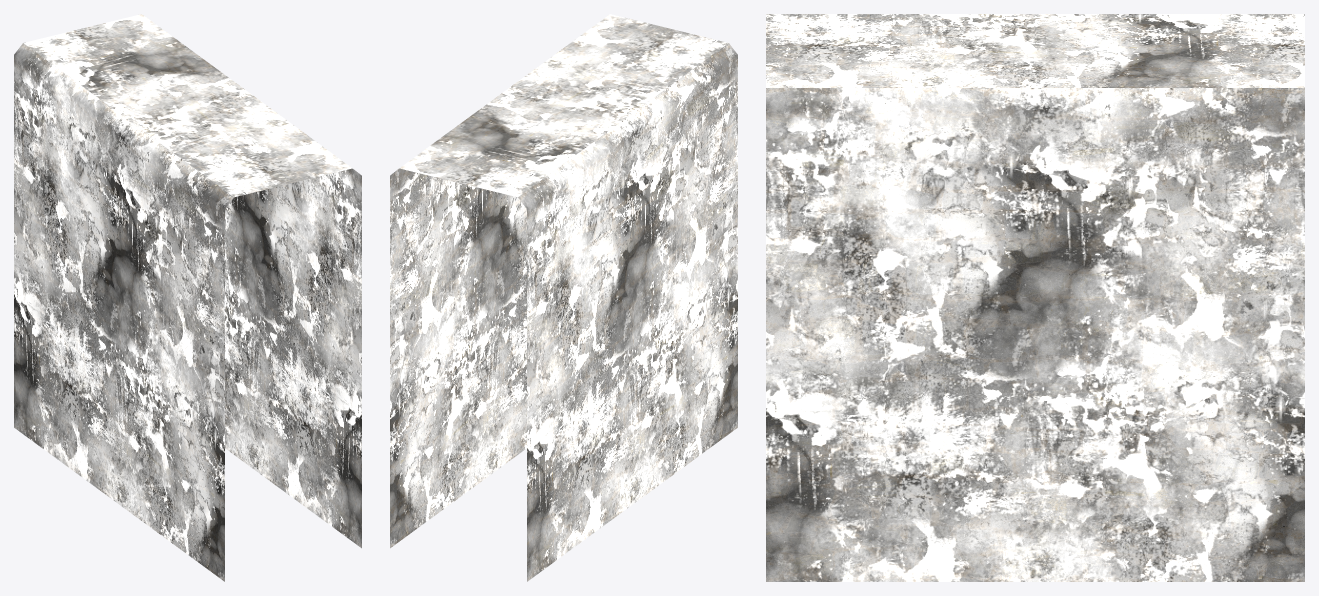
The model's file is SM_basement_A_2x2_01.fbx.
3 renders of one model, left to right at view 1: azimuth 30°, elevation 25°; view 2: azimuth 150°, elevation 25°; view 3: azimuth 270°, elevation 25°, orthographic. The views are drawn at different scales.
Parts seen in each view (by area): view 1: SM_basement_A_2x2_01_LOD0; view 2: SM_basement_A_2x2_01_LOD0; view 3: SM_basement_A_2x2_01_LOD0.
Part boxes in pixels (x1=…): SM_basement_A_2x2_01_LOD0: x1=14, y1=14, x2=361, y2=581; SM_basement_A_2x2_01_LOD0: x1=390, y1=14, x2=737, y2=581; SM_basement_A_2x2_01_LOD0: x1=766, y1=14, x2=1304, y2=581.
Size of the model in its own units: 75 by 200 by 200.
1 material, 1 textured.
